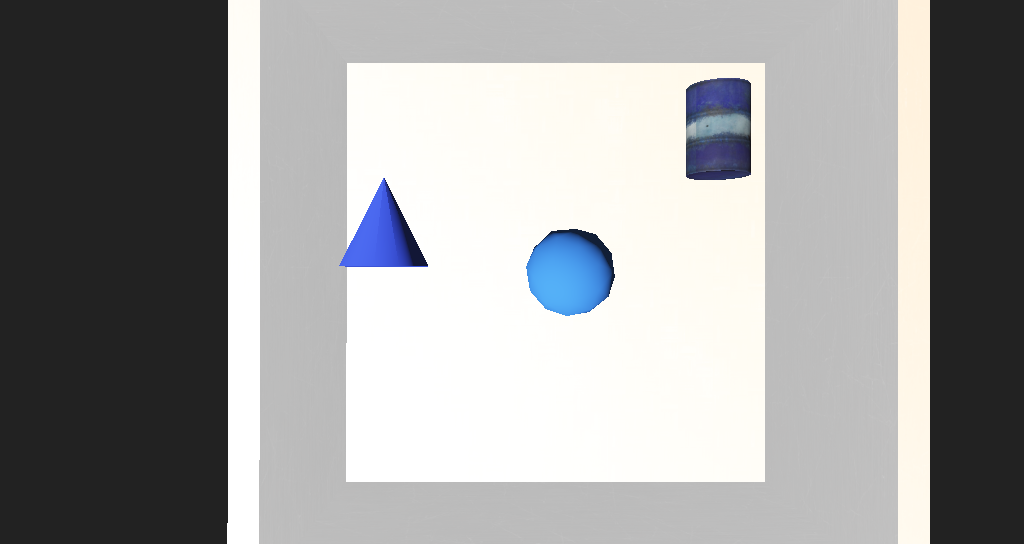cone: (593, 172, 647, 220)
cylinder: (344, 222, 411, 265)
sphere: (478, 243, 546, 291)
